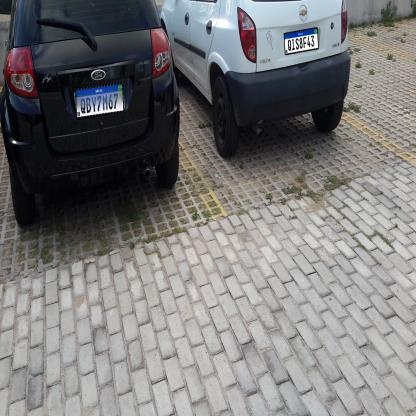PlacaM: (75, 82, 124, 119), (284, 27, 318, 55)
